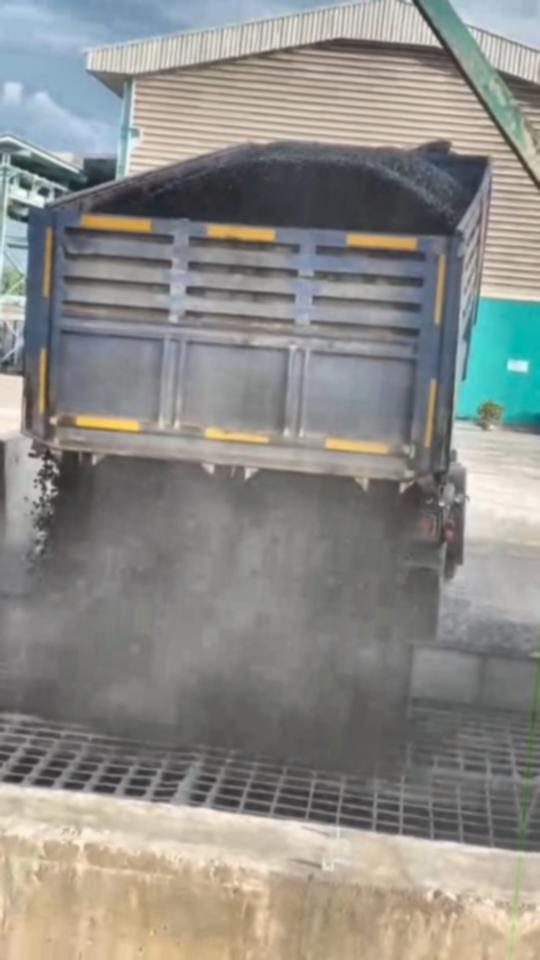gravel: (20, 450, 384, 751), (123, 143, 475, 233), (437, 584, 539, 657)
